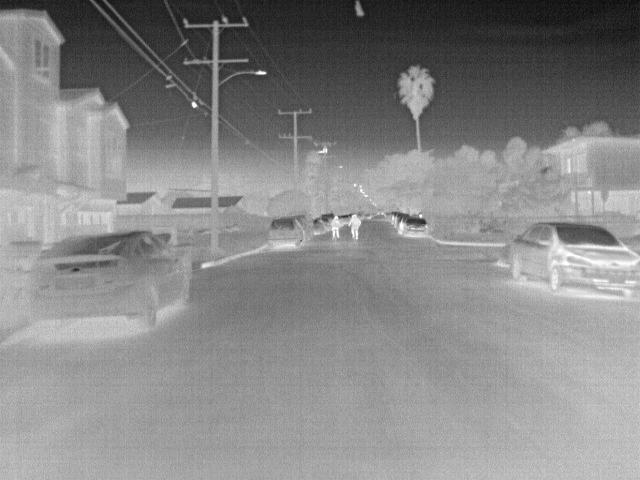car: (25, 230, 193, 334), (505, 221, 639, 297), (265, 215, 307, 251), (288, 213, 319, 239), (400, 219, 431, 239), (310, 218, 327, 236), (396, 213, 413, 228)
person: (347, 212, 360, 240), (330, 214, 342, 239)
